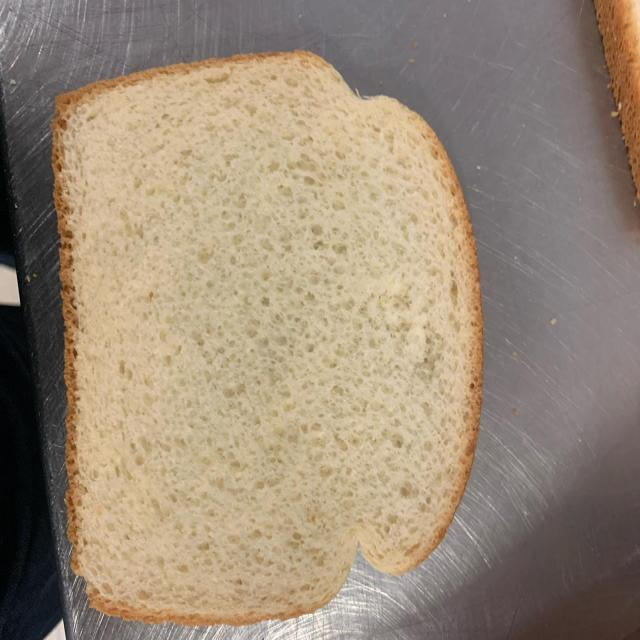pan: (51, 51, 483, 626)
